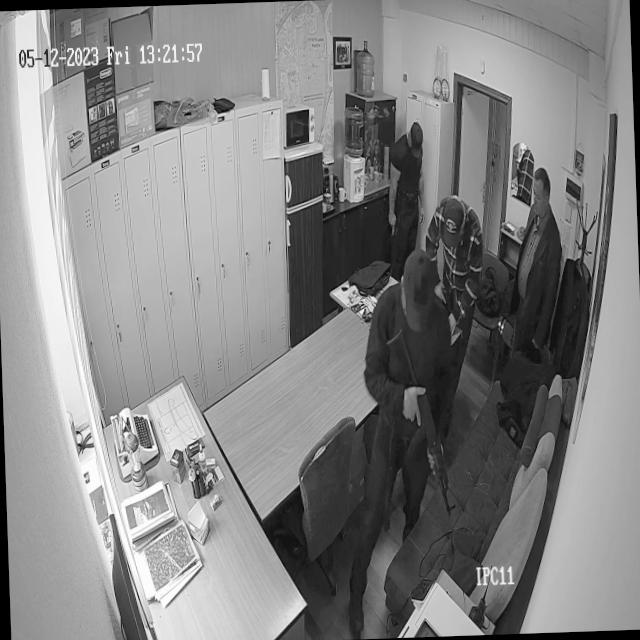gun: (412, 372, 460, 582)
person: (424, 175, 490, 334), (508, 159, 576, 294), (382, 126, 432, 232)
person with a gun: (360, 238, 458, 542)
